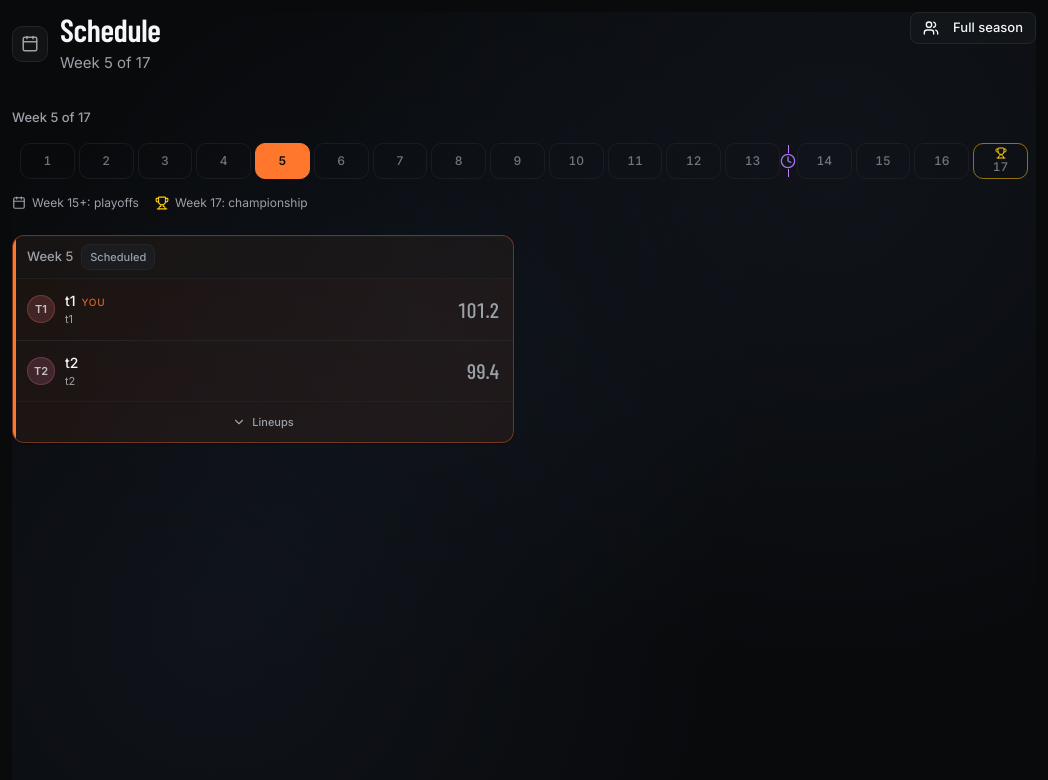
Scenario: ScheduleManager lineups › reads the week once for the whole card list, and again for no disclosure
Click the button "Lineups" at (263, 422), box [13, 402, 513, 442]
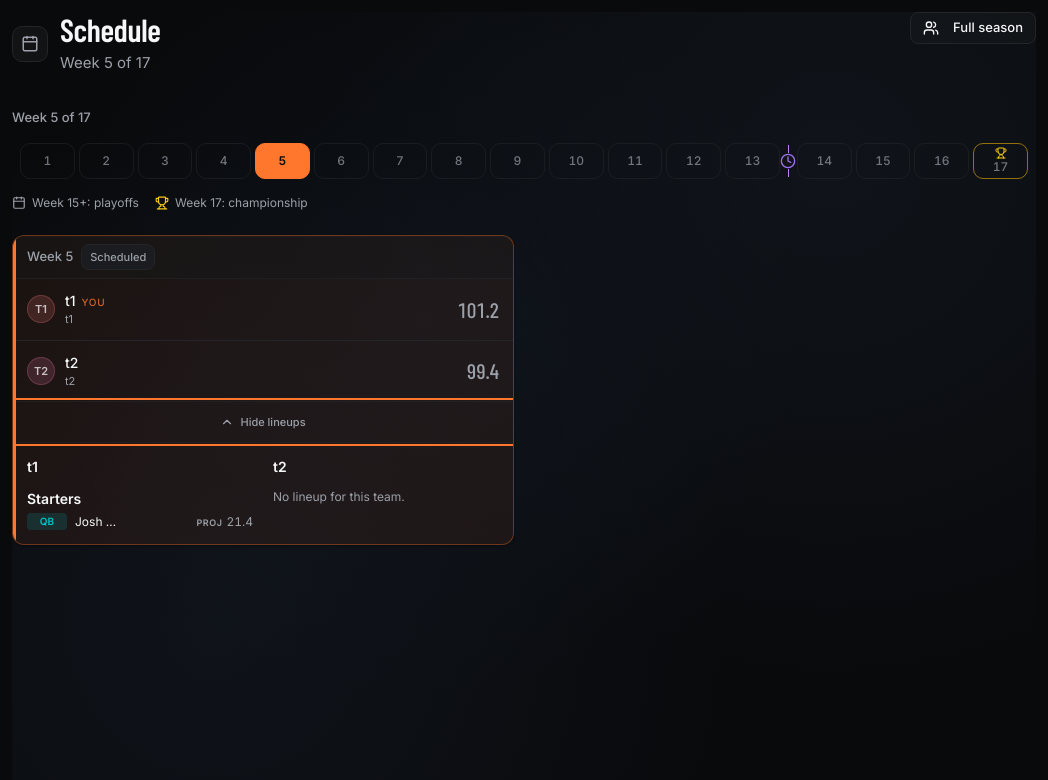
Now the text "Josh Allen" is shown, box [75, 514, 121, 530]
